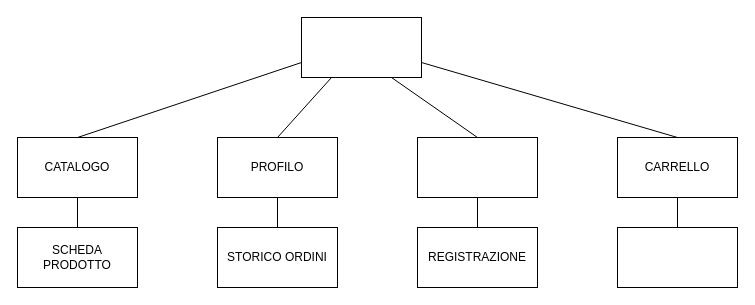
The diagram is 755 pixels wide and 305 high, and some of its shapes have lost their labels. Each missing label, with the centre of its shape:
"HOME" belongs at (361,47).
"LOGIN" belongs at (477,167).
"ORDINE" belongs at (677,257).
